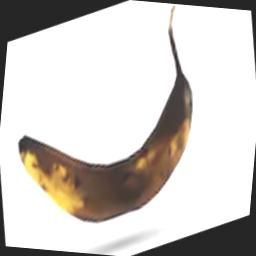Banana Rotten: (0, 30, 233, 242)
